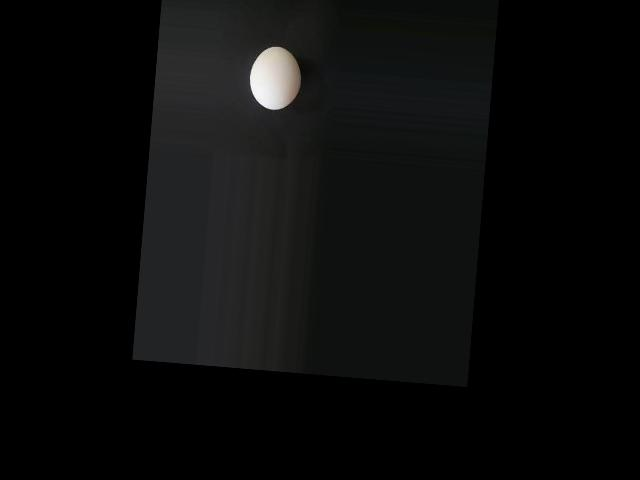egg: (248, 43, 303, 110)
